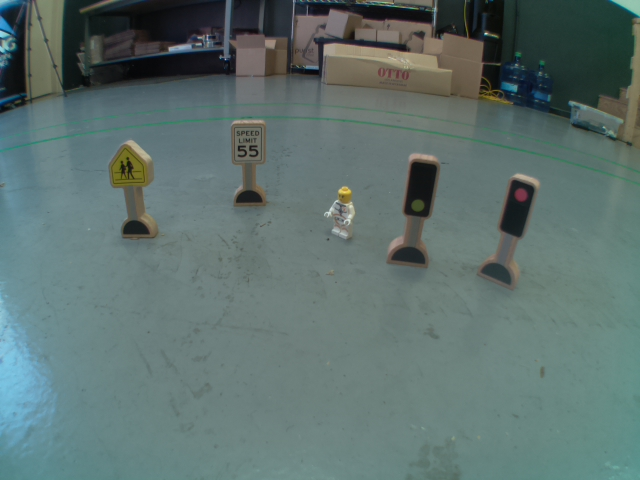Green Traffic Light: (404, 153, 436, 220)
Red Traffic Light: (499, 172, 537, 238)
Speed Limit 55: (229, 123, 267, 166)
YIELD: (100, 138, 155, 193)
person: (322, 181, 362, 243)
